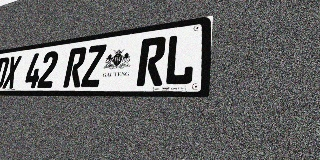2: (37, 50, 59, 88)
4: (23, 52, 45, 88)
D: (0, 57, 10, 89)
L: (163, 32, 196, 86)
R: (136, 36, 167, 86), (63, 47, 87, 88)
X: (2, 55, 22, 89)
Z: (81, 44, 107, 87)
